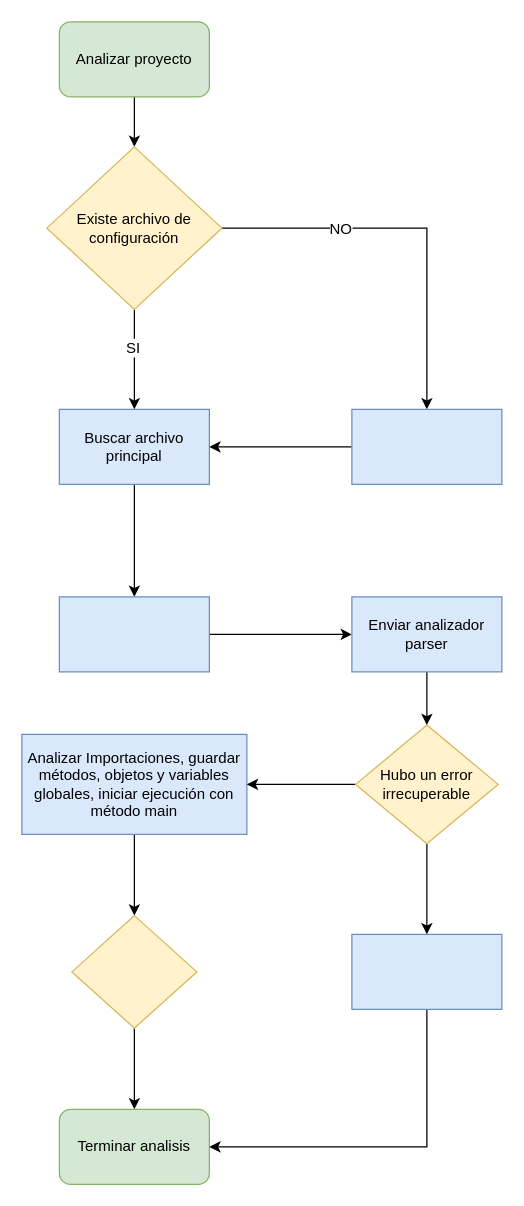
Image size: 524x1206. Some labels were removed from this diagram. The shapes that lost their labels are listed below. From the top down, each one's box as (x1, y1, x2, y2) in pixels, then its label:
(351, 408, 502, 484): Crear archivo
(58, 596, 209, 672): Analizar archivo y enviar texto a analizador lexico
(71, 914, 197, 1028): Existe error
(351, 933, 502, 1009): Reportar errores
